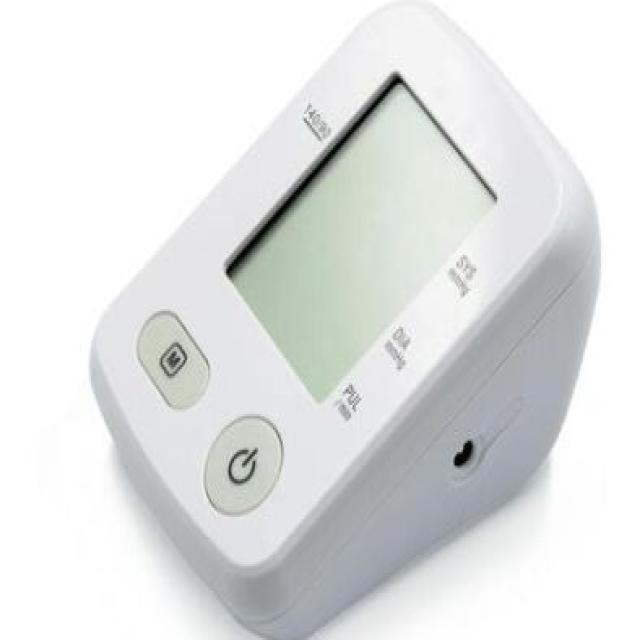electronic: (88, 0, 602, 638)
